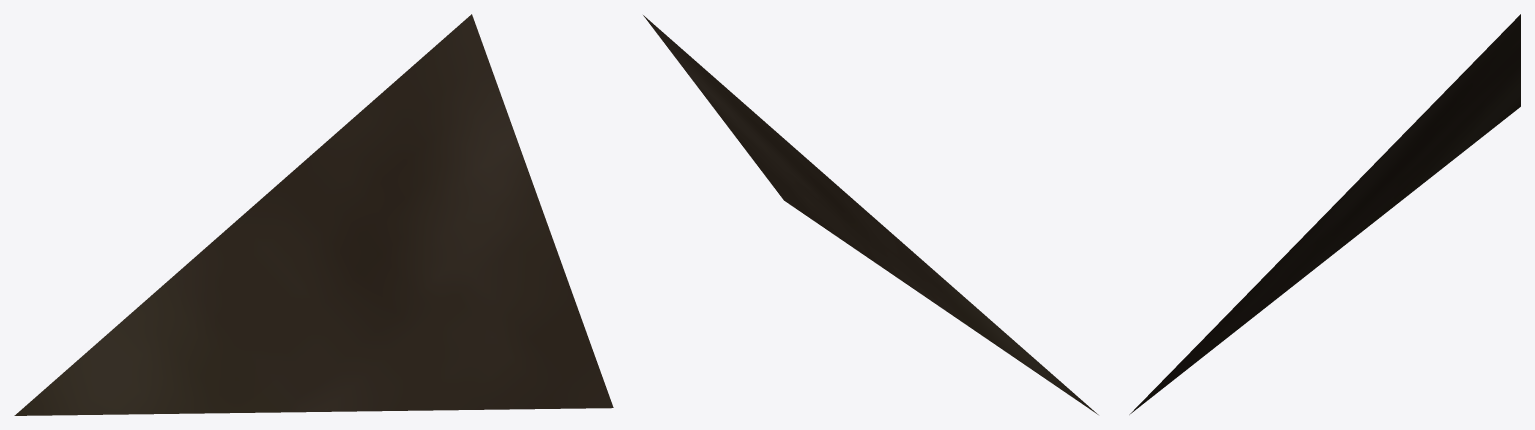
3 views of the same model, side by side, from view 1: azimuth 30°, elevation 25°; view 2: azimuth 150°, elevation 25°; view 3: azimuth 270°, elevation 25° (orthographic). The views are drawn at different scales.
Bounding box in the file's own units: 0.1235 × 0.0749 × 0.0663.
Materials: 1 (1 with a texture image).
